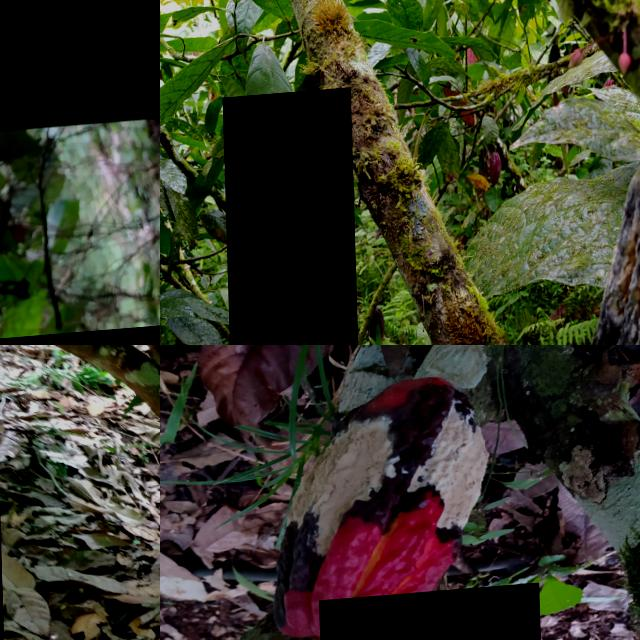Fitoftora: (221, 91, 357, 345), (569, 164, 640, 345)
Monilia: (265, 375, 494, 640), (0, 0, 160, 154)
